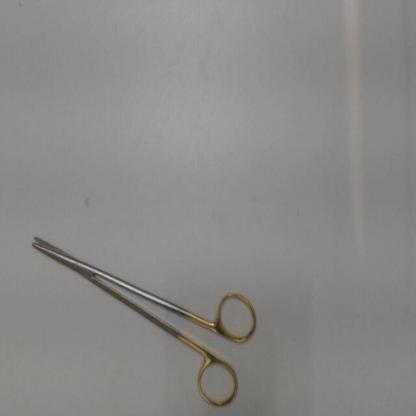7 Metzenbaum Scissors: (29, 230, 260, 413)
